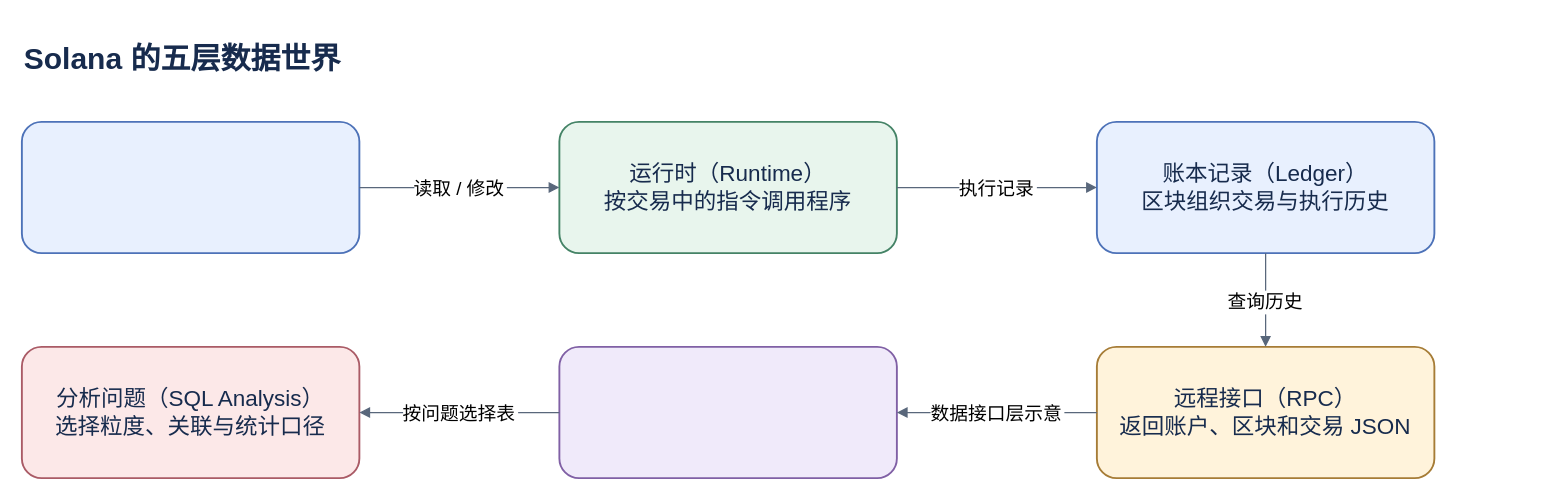
Some shapes in this 1544 by 500 pixel diagram are drawn without their labels. Each missing label, with the centre of its shape:
数据仓库（Dune） 原始展开、解码与业务加工: the point at 727,411
链上状态（Onchain State） 账户保存余额与程序数据: the point at 190,187
